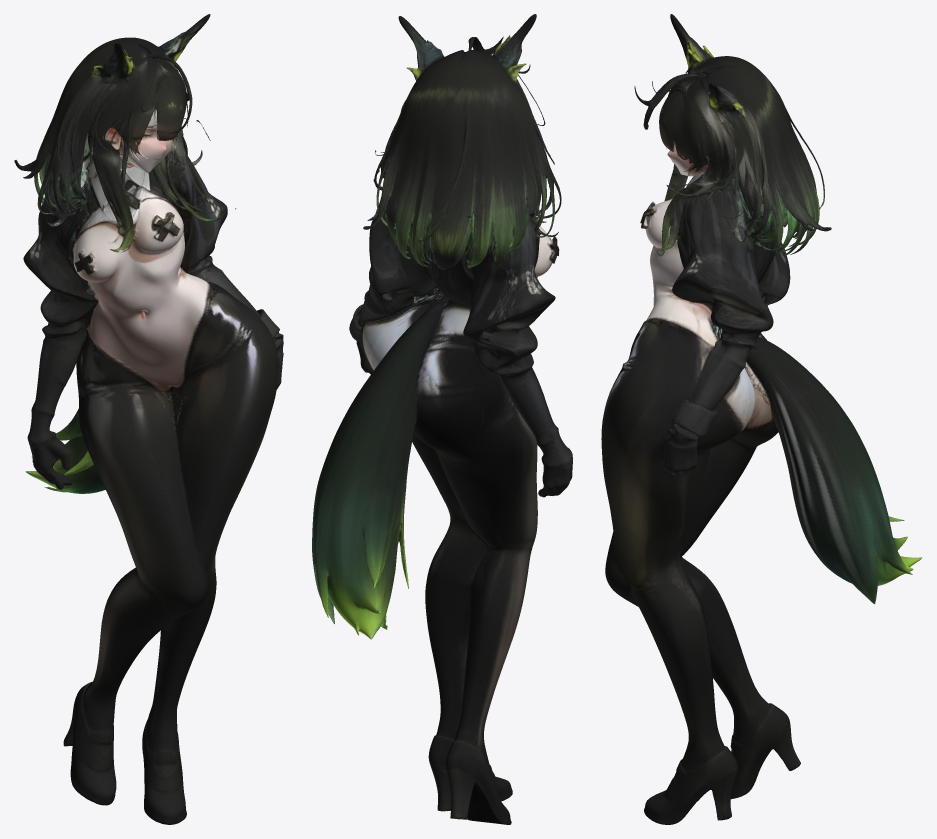
Rendered from Meshy_AI_Nocturne_of_the_Velve_0317210050_texture.fbx.
3 renders of one model, left to right at view 1: azimuth 30°, elevation 25°; view 2: azimuth 150°, elevation 25°; view 3: azimuth 270°, elevation 25°, orthographic. The views are drawn at different scales.
Parts seen in each view (by area): view 1: Mesh_0; view 2: Mesh_0; view 3: Mesh_0.
Boxes of the visible parts, bbox=[...] form: Mesh_0: bbox=[14, 14, 283, 824]; Mesh_0: bbox=[312, 14, 572, 824]; Mesh_0: bbox=[601, 14, 921, 824].
Bounding box in the file's own units: 58.53 × 190 × 70.91.
Materials: 1 (1 with a texture image).
